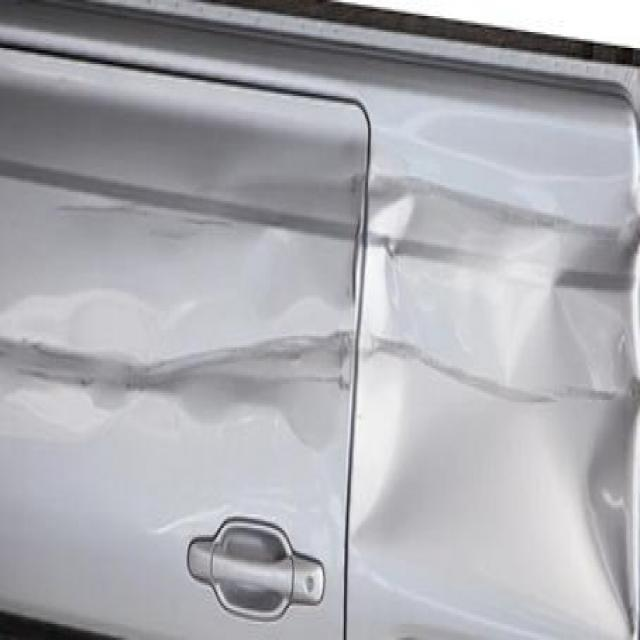dent: (358, 150, 640, 554), (0, 274, 347, 484)
